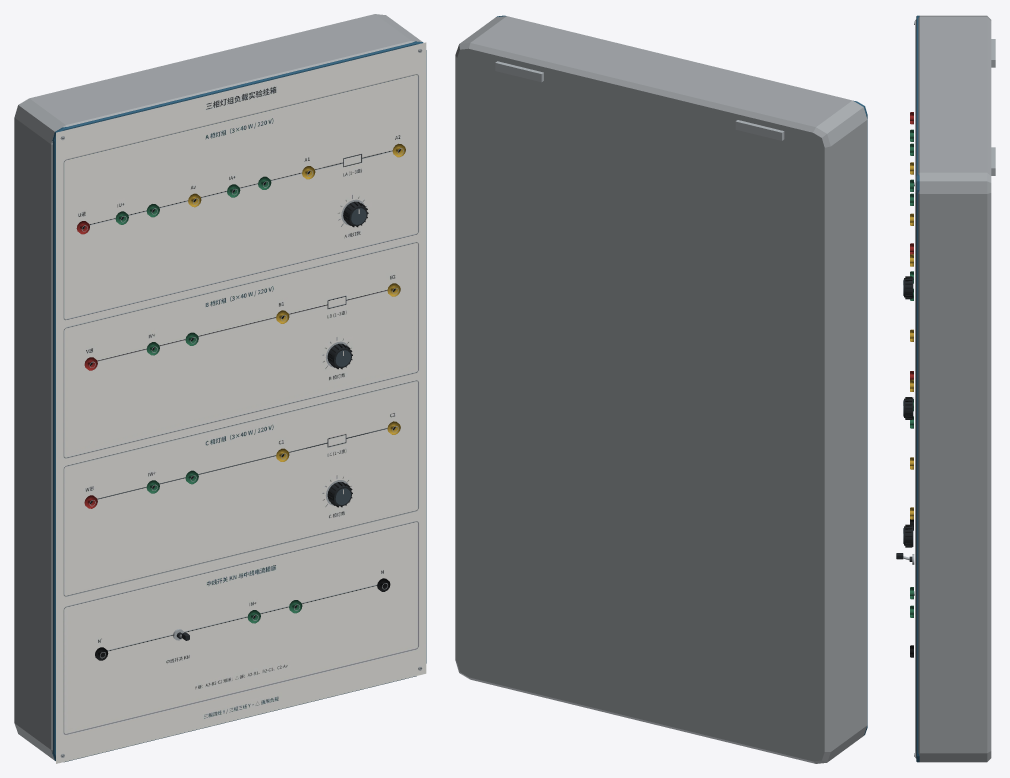
The model's file is module.glb.
The picture shows the model from 3 angles, left to right: view 1: azimuth 30°, elevation 25°; view 2: azimuth 150°, elevation 25°; view 3: azimuth 270°, elevation 25°; orthographic projection. The views are drawn at different scales.
Parts seen in each view (by area): view 1: PANEL_silkscreen, STATIC_paint, STATIC_metal; view 2: STATIC_paint, STATIC_metal; view 3: STATIC_paint, STATIC_metal, MOVING_KA_paint, MOVING_KC_paint, MOVING_KB_paint.
Part boxes in pixels (x1,y1,x2,y2): PANEL_silkscreen: (56, 42, 426, 763); STATIC_paint: (14, 14, 426, 762); STATIC_metal: (60, 48, 422, 757); STATIC_paint: (455, 15, 867, 763); STATIC_metal: (495, 61, 784, 140); STATIC_paint: (910, 15, 991, 762); STATIC_metal: (912, 21, 995, 756); MOVING_KA_paint: (903, 276, 913, 299); MOVING_KC_paint: (903, 524, 913, 547); MOVING_KB_paint: (903, 397, 913, 419).
Size of the model in its own units: 0.29 by 0.47 by 0.0718.
Materials: 7 (1 with a texture image).
